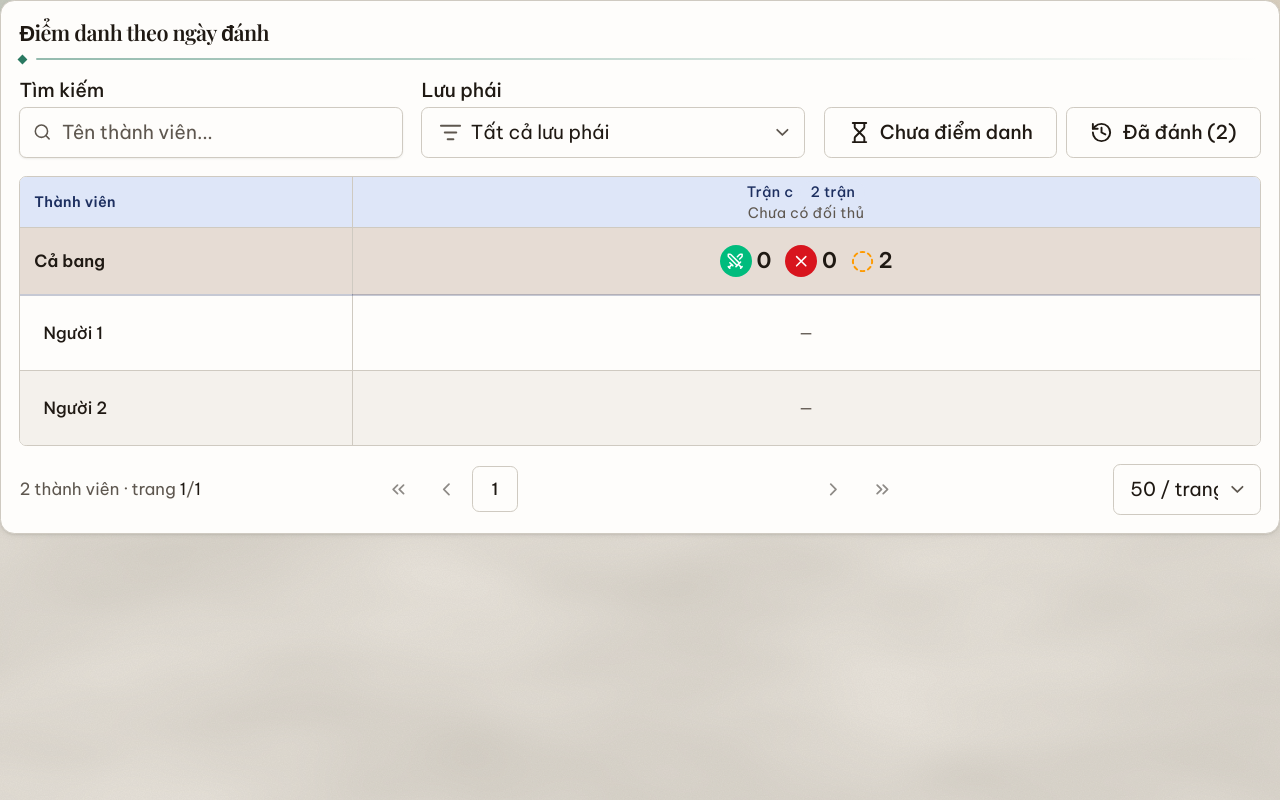
Scenario: AttendanceGrid - trận đã đánh › sửa một ô ở cột đã đánh rồi ẩn cột đi thì thanh lưu nói rõ ô đó đang ẩn
Click the button "Đã đánh (2)" at (1163, 132), box [1066,107,1261,158]
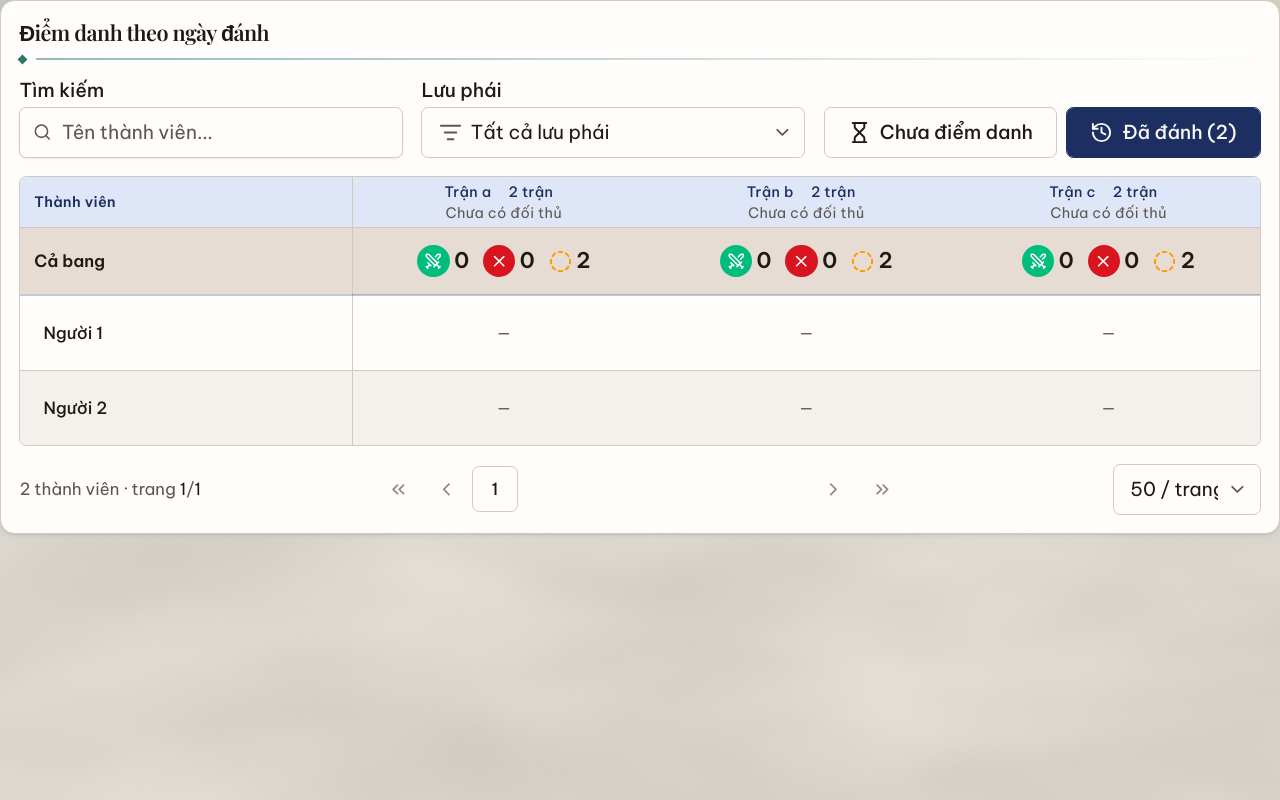
Click the 1st button "—" at (504, 333), box [481,310,527,356]
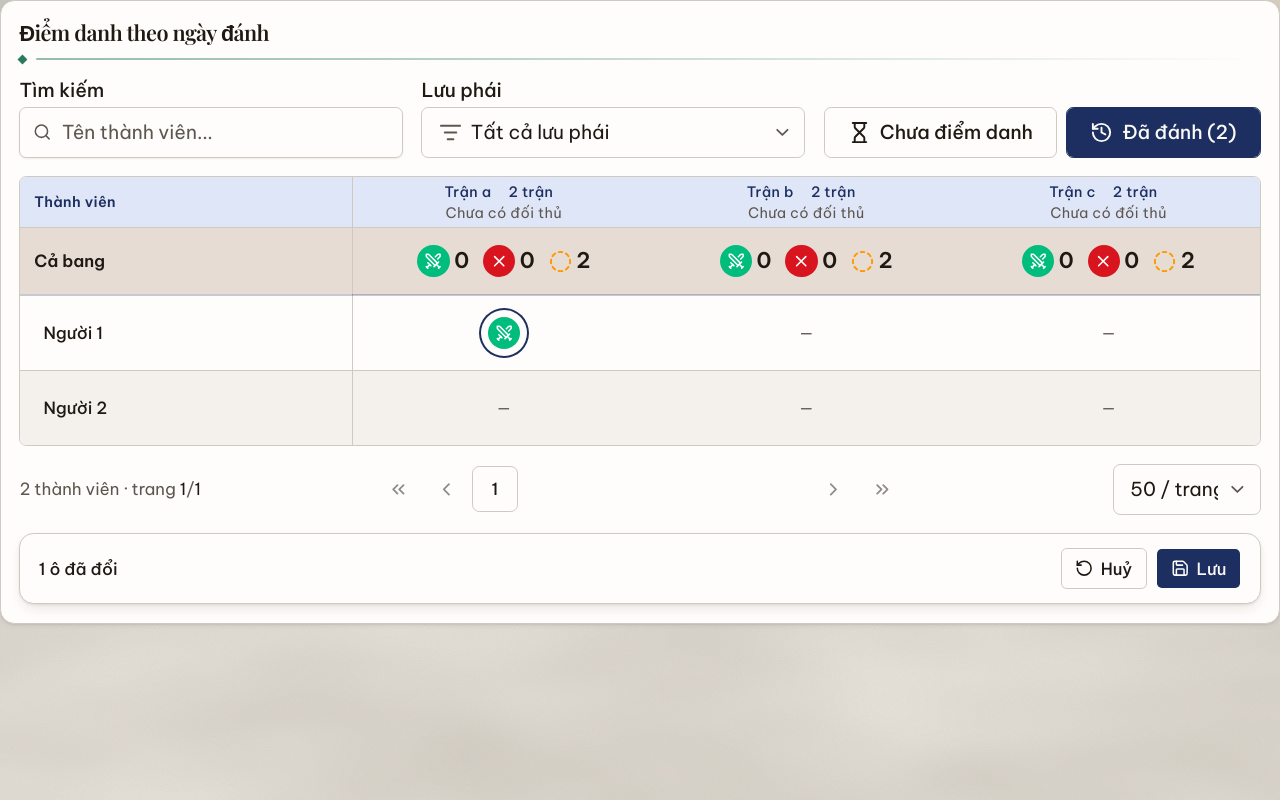
expect the text "1 ô đã đổi" is shown: met, box [39,557,118,581]
Click the button "Đã đánh (2)" at (1163, 132), box [1066,107,1261,158]
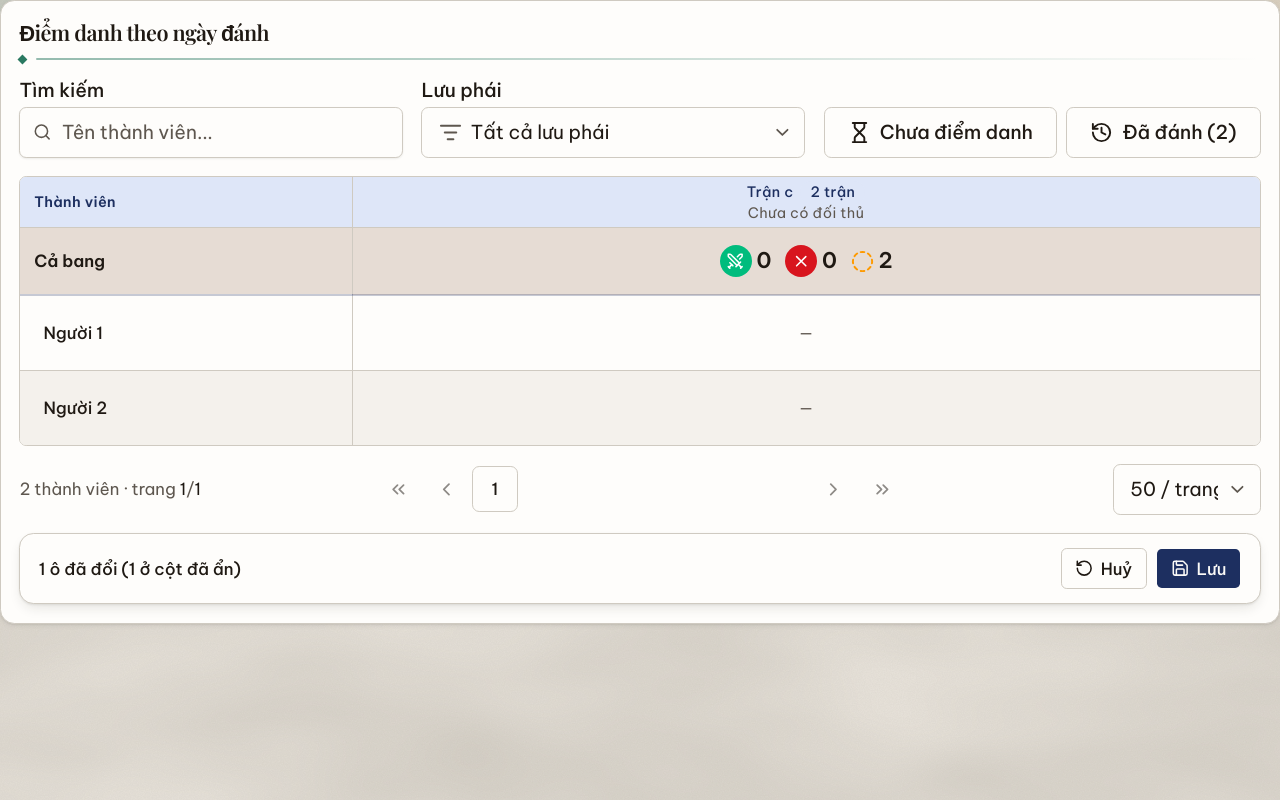
expect the text "1 ô đã đổi (1 ở cột đã ẩn)" is shown: met, box [39,557,241,581]
